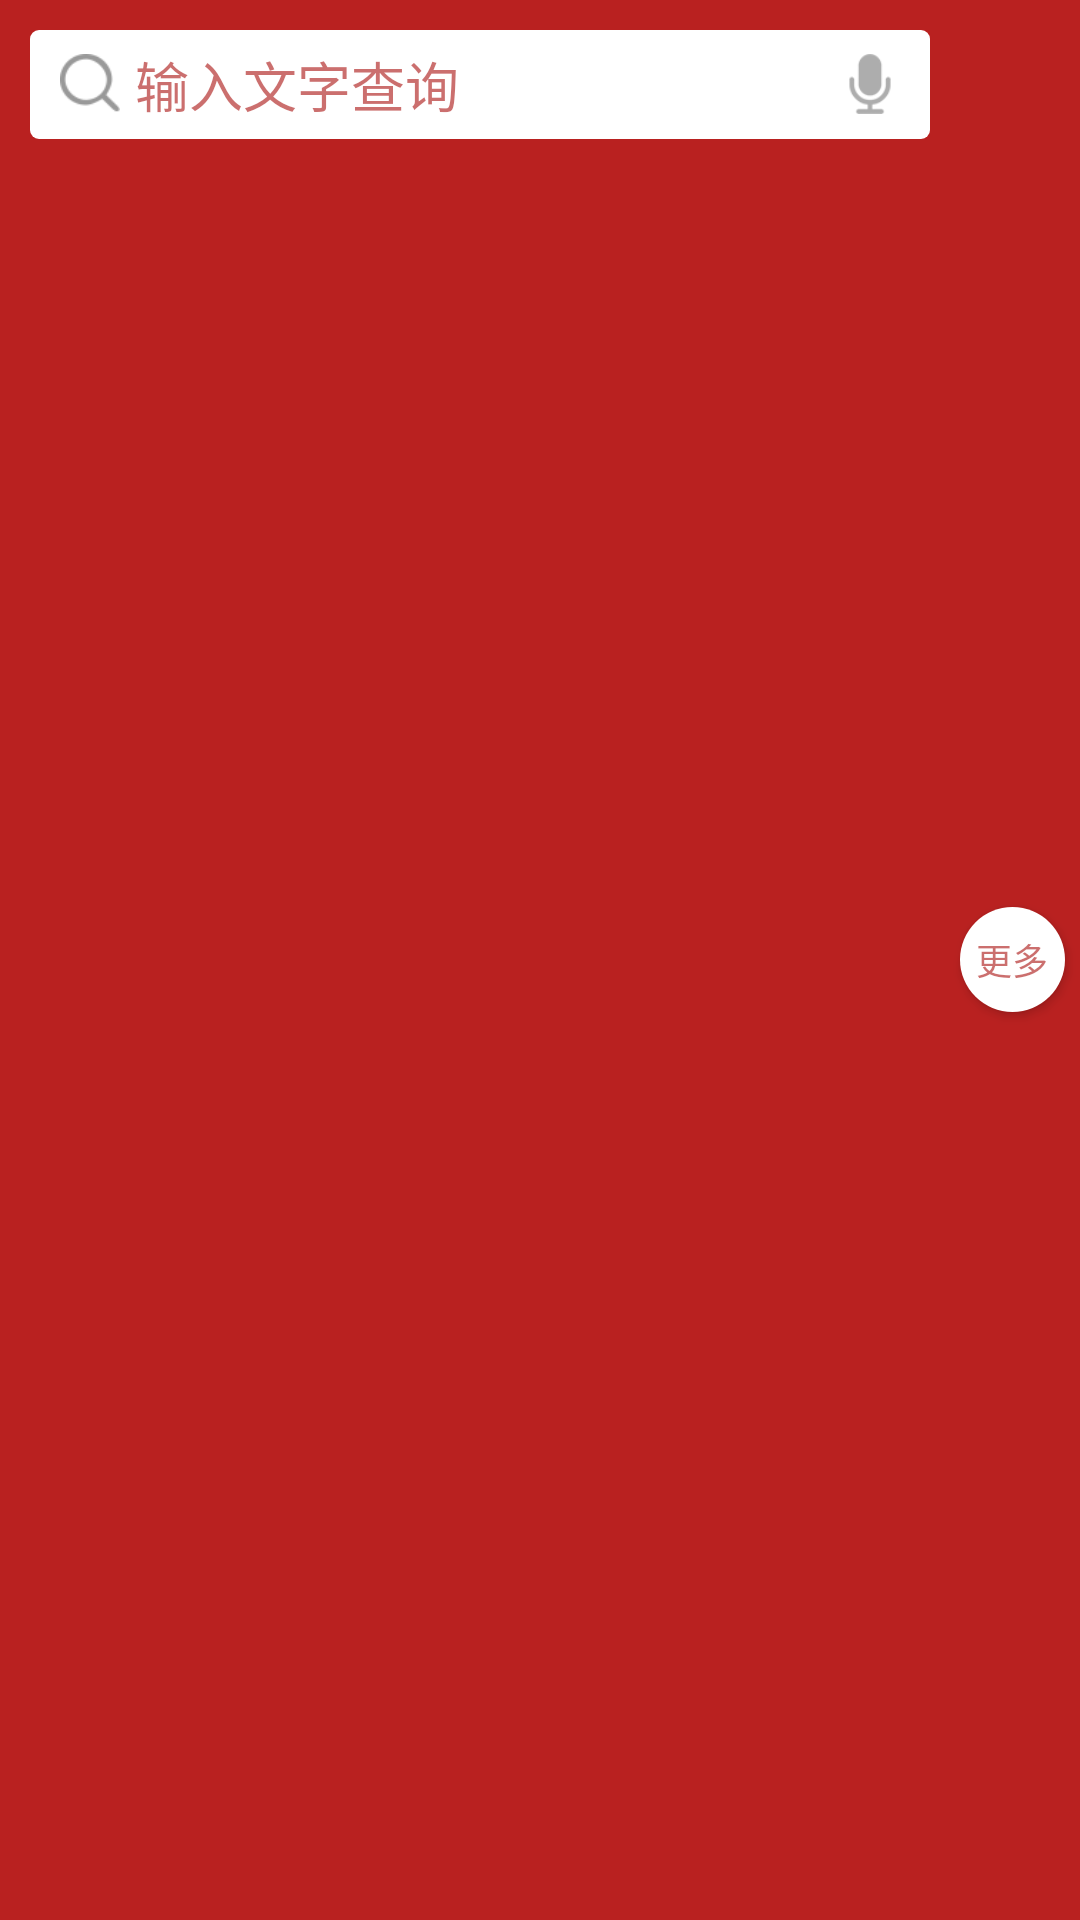

Locate icon controls on the screen. Image size 1080px×1920px, boxes as BBox(x1, y1, x2, y2).
mic: BBox(849, 54, 891, 114)
search: BBox(60, 54, 120, 112)
